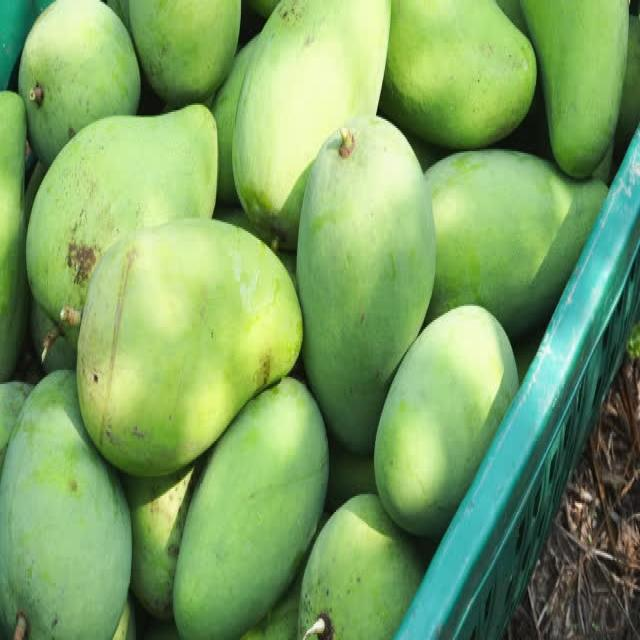mango: (76, 218, 302, 476), (296, 116, 436, 453), (28, 104, 218, 341), (174, 378, 329, 638), (232, 0, 389, 249), (0, 371, 131, 639), (425, 149, 608, 338), (374, 307, 519, 534), (381, 0, 536, 148), (19, 0, 140, 150), (301, 496, 425, 640)
